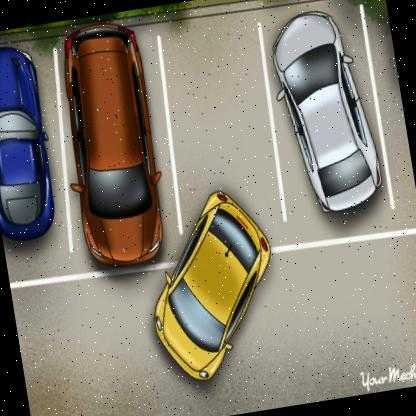Car: (59, 20, 175, 268), (268, 13, 390, 229), (144, 244, 295, 387), (0, 44, 63, 245)
Empty: (169, 28, 268, 188)
